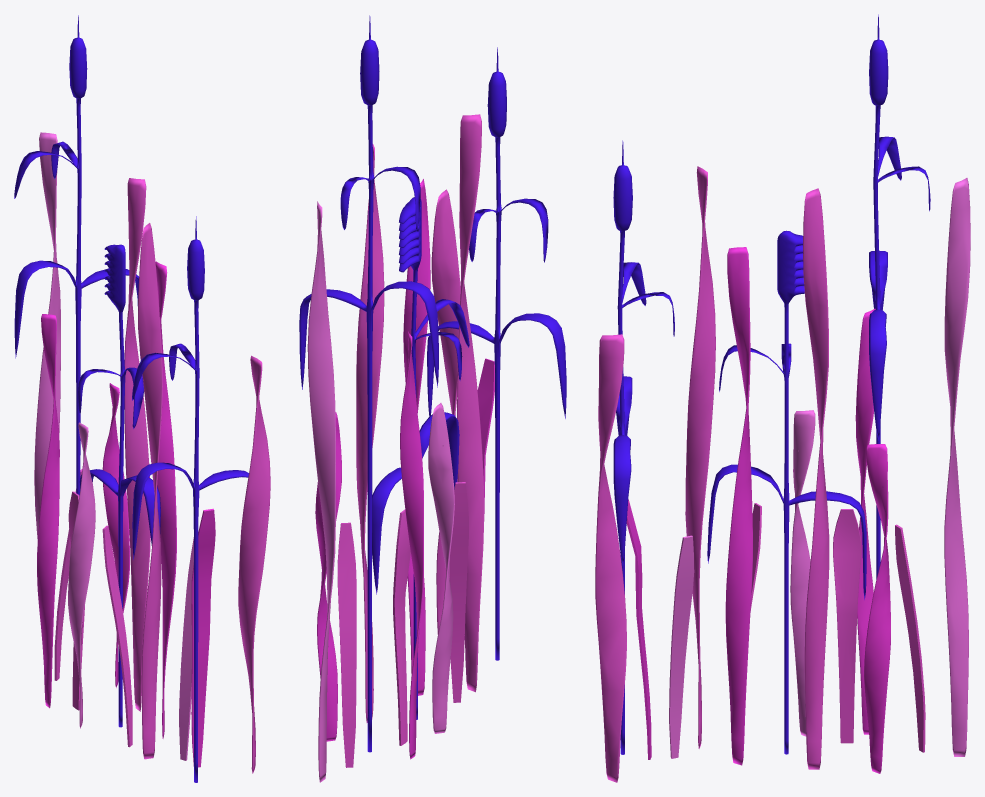
Rendered from _See2-2.FBX.
3 renders of one model, left to right at view 1: azimuth 30°, elevation 25°; view 2: azimuth 150°, elevation 25°; view 3: azimuth 270°, elevation 25°, orthographic. The views are drawn at different scales.
Parts seen in each view (by area): view 1: Plane052, Plane048, Plane040, Box003, Plane035, Box001, Box002, Plane038, Plane049, Plane037, Plane051, Plane047 (+4 smaller); view 2: Plane052, Box001, Plane038, Box003, Plane048, Box002, Plane037, Plane035, Plane040, Plane042, Plane049, Plane033 (+3 smaller); view 3: Plane038, Plane048, Plane040, Plane049, Plane052, Box002, Box001, Plane047, Box003, Plane032, Plane037, Plane035 (+4 smaller).
Part boxes in pixels (x1,y1,x2,y2): Plane052: [138, 223, 162, 759]; Plane048: [124, 178, 150, 711]; Plane040: [238, 355, 270, 773]; Box003: [132, 216, 248, 782]; Plane035: [37, 314, 59, 708]; Box001: [14, 15, 140, 495]; Box002: [78, 244, 160, 727]; Plane038: [34, 132, 60, 540]; Plane049: [155, 261, 176, 738]; Plane037: [68, 422, 95, 728]; Plane051: [191, 508, 215, 767]; Plane047: [102, 383, 129, 687]; Plane052: [457, 114, 484, 692]; Box001: [299, 15, 438, 752]; Plane038: [307, 201, 335, 782]; Box003: [427, 47, 566, 660]; Plane048: [356, 144, 384, 722]; Box002: [372, 197, 469, 719]; Plane037: [428, 403, 454, 733]; Plane035: [400, 331, 423, 759]; Plane040: [431, 189, 460, 634]; Plane042: [337, 522, 356, 767]; Plane049: [403, 179, 430, 695]; Plane033: [450, 482, 468, 702]; Plane038: [944, 178, 970, 756]; Plane048: [803, 188, 829, 769]; Plane040: [595, 334, 626, 782]; Plane049: [725, 247, 752, 765]; Plane052: [685, 166, 715, 748]; Box002: [707, 230, 866, 754]; Box001: [869, 14, 930, 579]; Plane047: [864, 444, 890, 773]; Box003: [613, 140, 674, 754]; Plane032: [833, 509, 861, 743]; Plane037: [790, 410, 815, 736]; Plane035: [855, 308, 875, 734].
Size of the model in its own units: 32.66 by 165 by 75.8.
